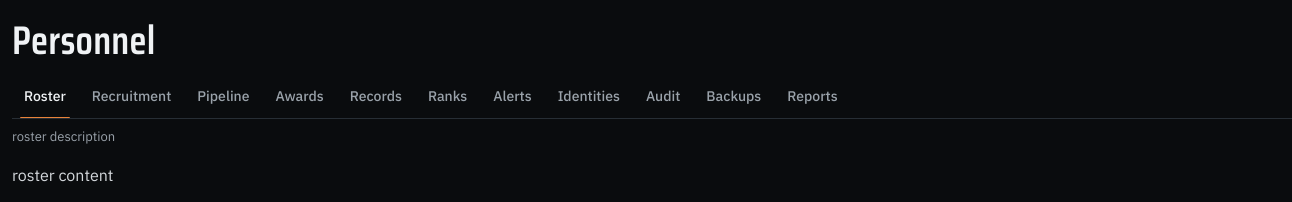
Scenario: TabbedWorkspace tab rail on narrow screens › writes the active tab description under the rail and follows tab changes
Expected: the text with test id "tab-description" reads "roster description", [12,128,115,145]
Press the mouse on the tab "Backups" at x=734, y=96, box [694,78,773,114]
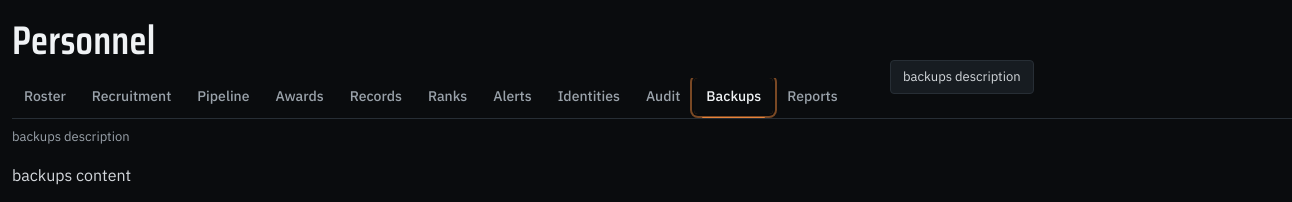
Expected: the text with test id "tab-description" reads "backups description", [12,128,130,145]
